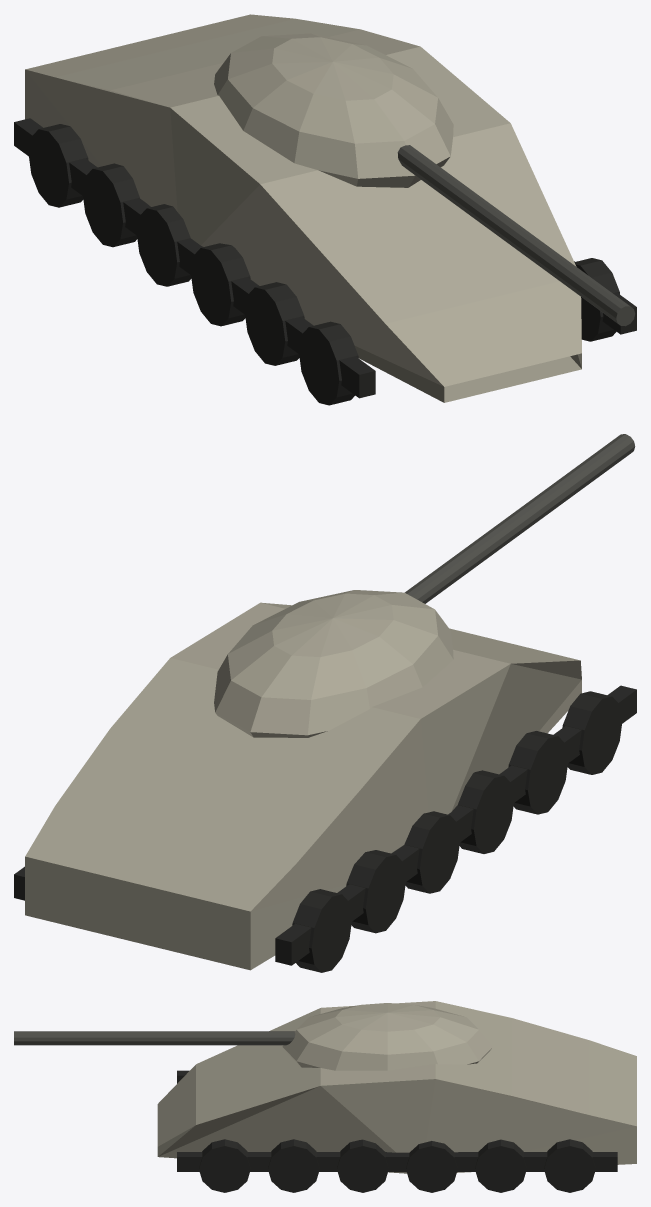
The picture shows the model from 3 angles, top to bottom: view 1: azimuth 30°, elevation 25°; view 2: azimuth 150°, elevation 25°; view 3: azimuth 270°, elevation 25°; orthographic projection. The views are drawn at different scales.
Visible parts, largest first — view 1: Hull, Turret, Gun, Track_L, Wheel_L_06, Wheel_L_02, Wheel_L_01, Wheel_L_03, Wheel_L_05, Wheel_L_04, Wheel_R_01; view 2: Hull, Turret, Gun, Track_L, Wheel_L_02, Wheel_L_06, Wheel_L_01, Wheel_L_05, Wheel_L_03, Wheel_L_04; view 3: Hull, Turret, Gun, Track_R, Wheel_R_01, Wheel_R_06, Wheel_R_02, Wheel_R_05, Wheel_R_03, Wheel_R_04.
Boxes of the visible parts, x1,y1,x2,y2 form: Hull: (25,14,581,402); Turret: (214,33,453,187); Gun: (397,145,635,326); Track_L: (14,118,375,398); Wheel_L_06: (28,124,88,207); Wheel_L_02: (244,282,304,365); Wheel_L_01: (298,321,358,405); Wheel_L_03: (190,243,250,326); Wheel_L_05: (82,163,139,247); Wheel_L_04: (136,204,191,286); Wheel_R_01: (574,258,619,341); Hull: (25,602,581,970); Turret: (214,590,453,737); Gun: (405,434,635,603); Track_L: (275,685,636,965); Wheel_L_02: (508,731,568,814); Wheel_L_06: (292,889,352,972); Wheel_L_01: (562,691,622,774); Wheel_L_05: (346,850,406,933); Wheel_L_03: (458,770,514,853); Wheel_L_04: (404,811,460,893); Hull: (157,1001,636,1173); Turret: (282,1003,492,1070); Gun: (14,1031,295,1045); Track_R: (177,1152,617,1171); Wheel_R_01: (199,1139,250,1192); Wheel_R_06: (544,1139,595,1192); Wheel_R_02: (268,1139,319,1192); Wheel_R_05: (475,1139,526,1192); Wheel_R_03: (337,1139,388,1192); Wheel_R_04: (406,1141,457,1192).
Bounding box in the file's own units: 3.38 × 2.43 × 10.09.
